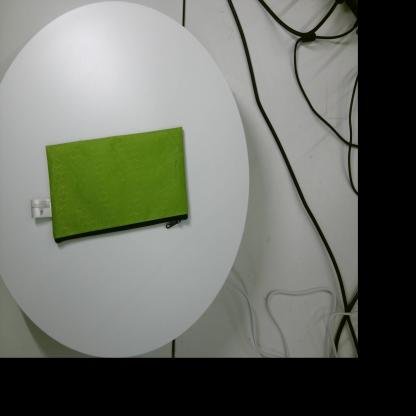Stationery: (31, 126, 188, 244)
